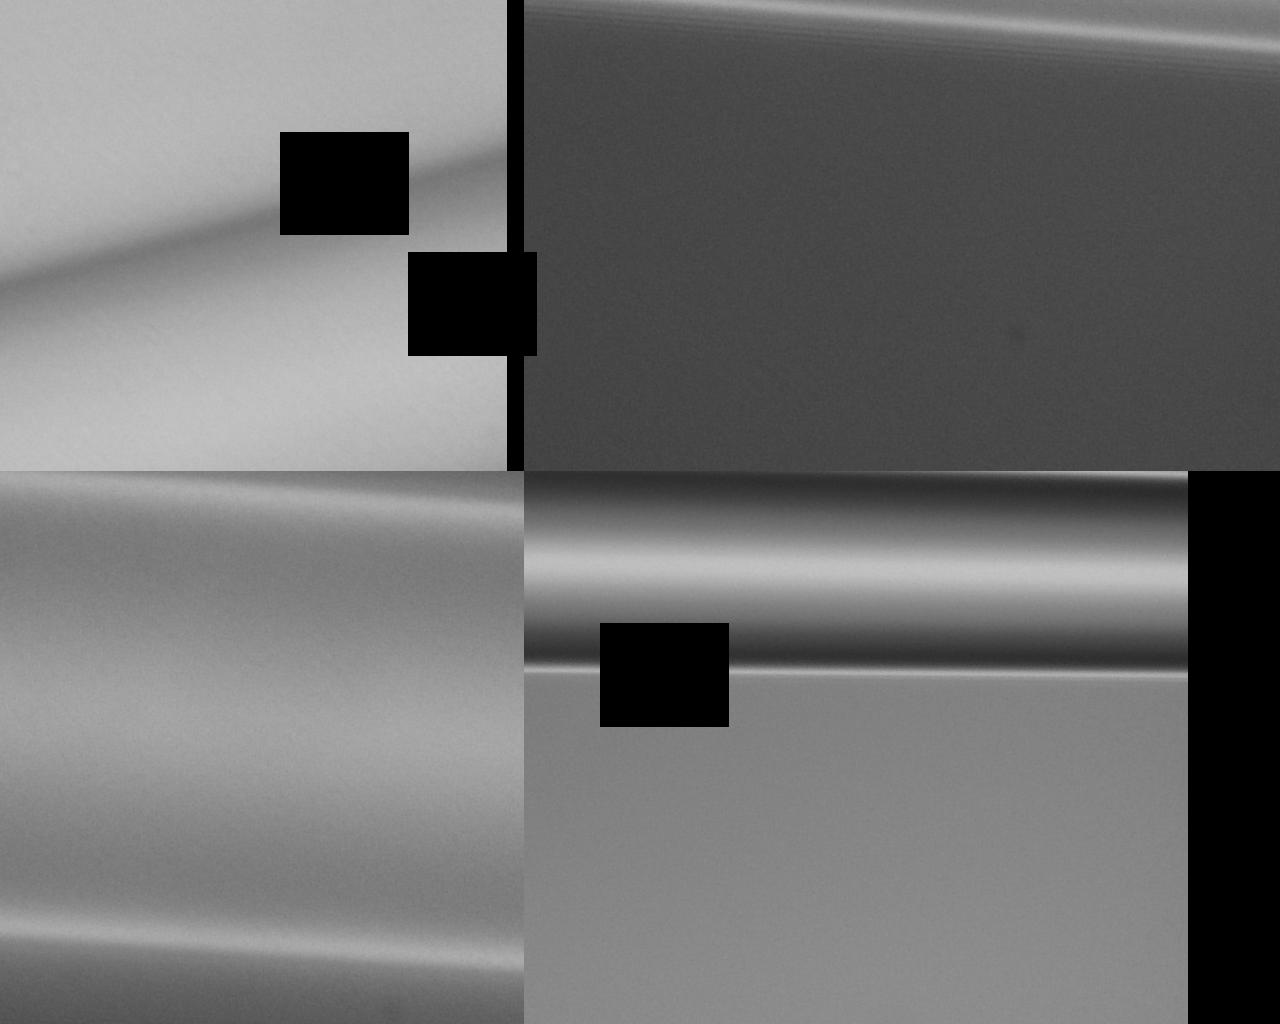fiber: (499, 481, 1280, 897), (0, 481, 241, 1024), (284, 0, 450, 481), (875, 0, 889, 481)
